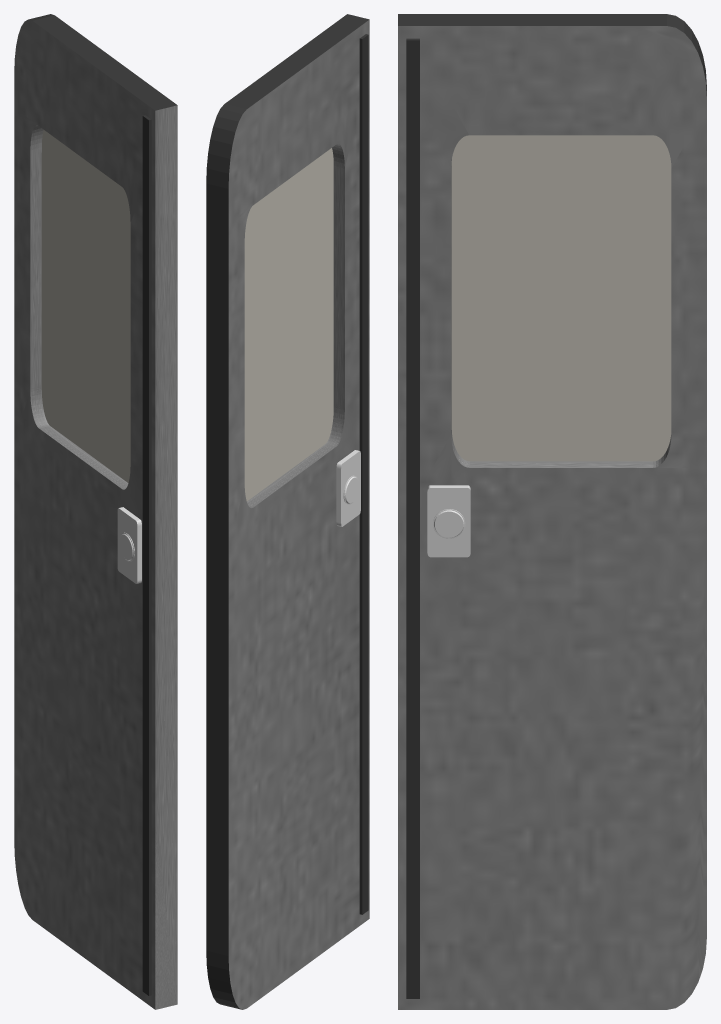
Rendered from HalfDoor.fbx.
3 renders of one model, left to right at view 1: azimuth 30°, elevation 25°; view 2: azimuth 150°, elevation 25°; view 3: azimuth 270°, elevation 25°, orthographic. The views are drawn at different scales.
Visible parts, largest first — view 1: DoorClosedMid, glass.003, detailCaoutchouc.003, supportbutton.003; view 2: DoorClosedMid, glass.003, detailCaoutchouc.003, supportbutton.003; view 3: DoorClosedMid, glass.003, detailCaoutchouc.003, supportbutton.003, buttoninterieur.003.
Boxes of the visible parts, x1,y1,x2,y2 form: DoorClosedMid: [14, 14, 177, 1009]; glass.003: [41, 130, 130, 482]; detailCaoutchouc.003: [142, 115, 151, 995]; supportbutton.003: [117, 507, 141, 583]; DoorClosedMid: [206, 14, 369, 1009]; glass.003: [244, 148, 333, 501]; detailCaoutchouc.003: [359, 34, 368, 914]; supportbutton.003: [336, 450, 360, 526]; DoorClosedMid: [398, 14, 706, 1009]; glass.003: [451, 135, 671, 461]; detailCaoutchouc.003: [406, 38, 419, 998]; supportbutton.003: [427, 485, 470, 557]; buttoninterieur.003: [433, 509, 465, 538].
Size of the model in its own units: 35.22 by 857 by 244.
4 materials, 1 textured.
